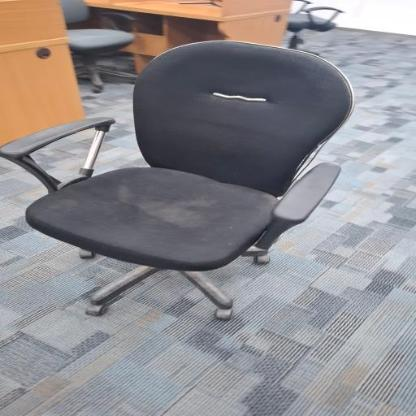chair: (0, 34, 359, 329)
